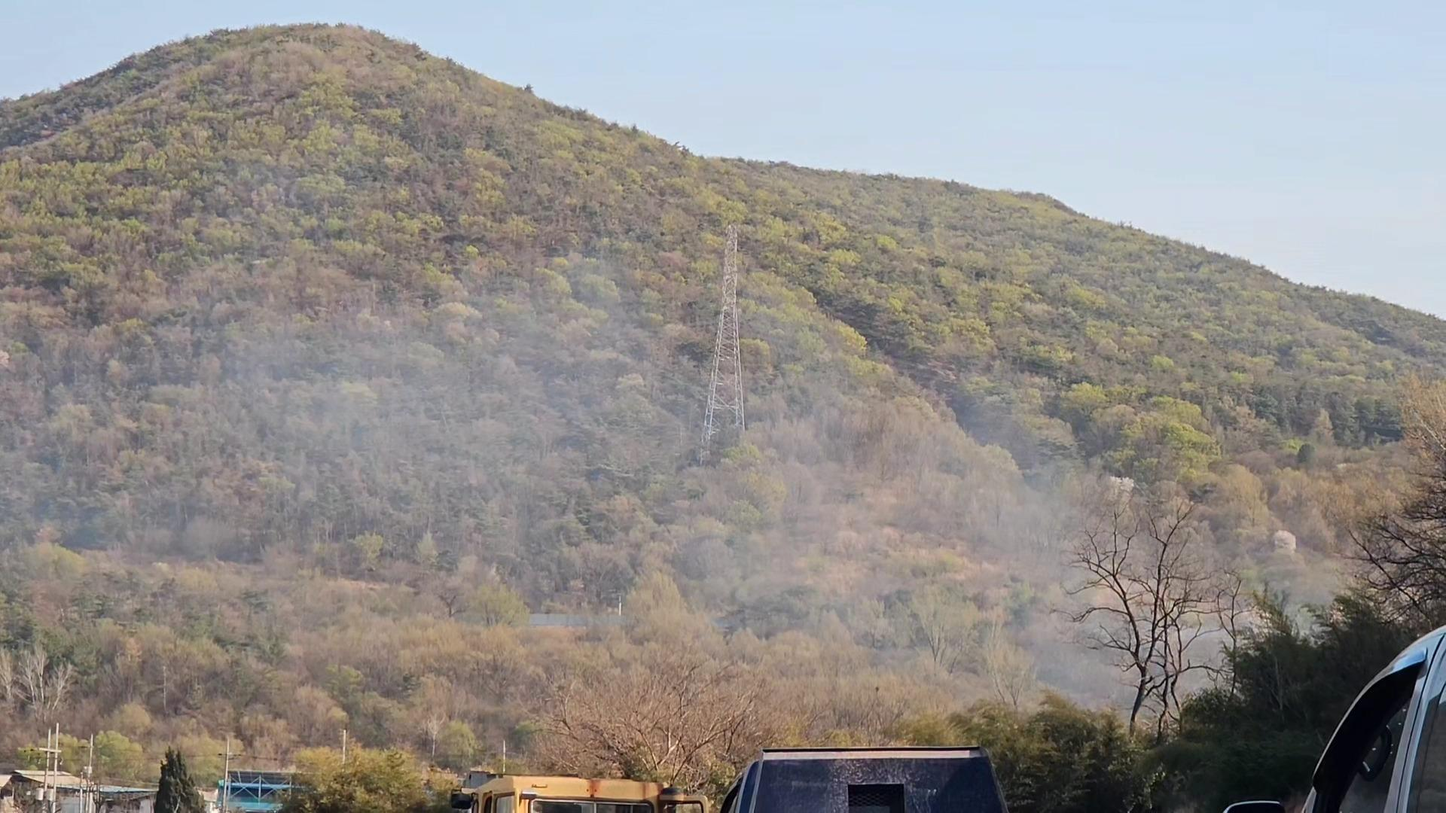smoke: (15, 240, 1370, 726)
